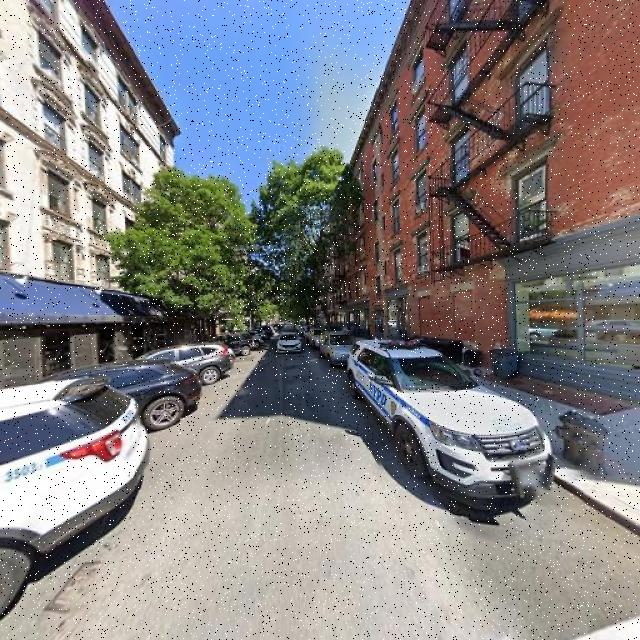Building: (339, 1, 640, 404), (1, 1, 172, 398)
